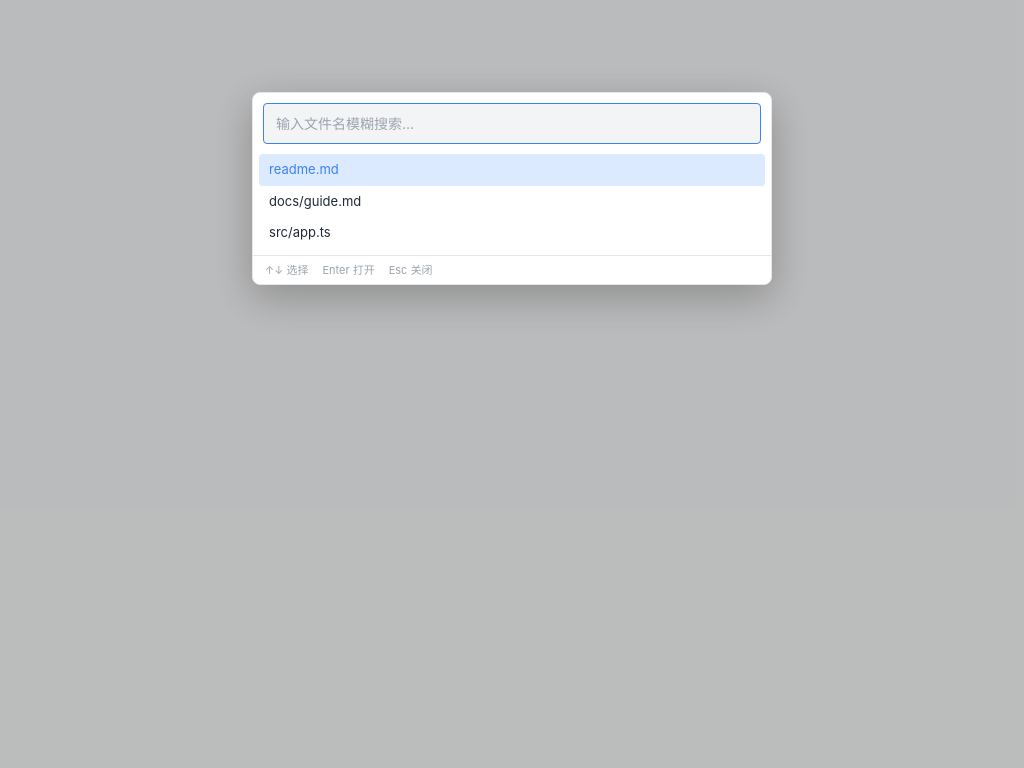
Test: QuickOpenPalette › filters results as the query changes
Type "guide" into the field with placeholder "输入文件名模糊搜索…". click: (512, 124)
box: top-left (263, 103), bottom-right (761, 144)
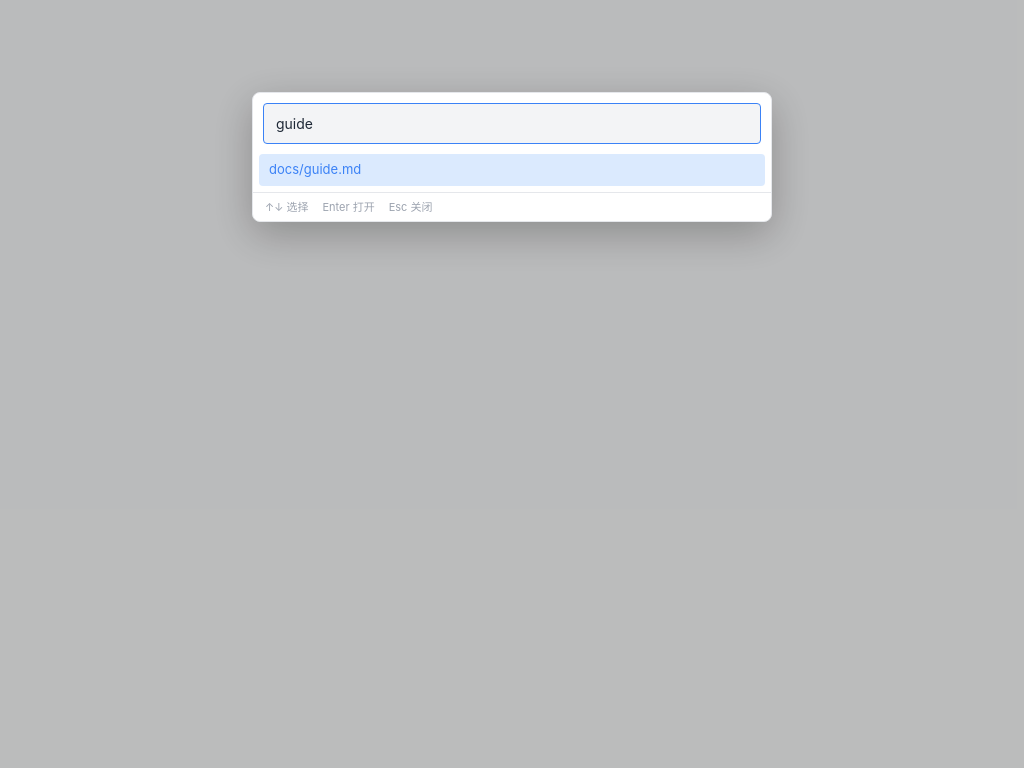
Expected: the list item "docs/guide.md" is shown, top-left (259, 154), bottom-right (765, 186)
Expected: the number of list items is 1, top-left (259, 154), bottom-right (765, 186)
